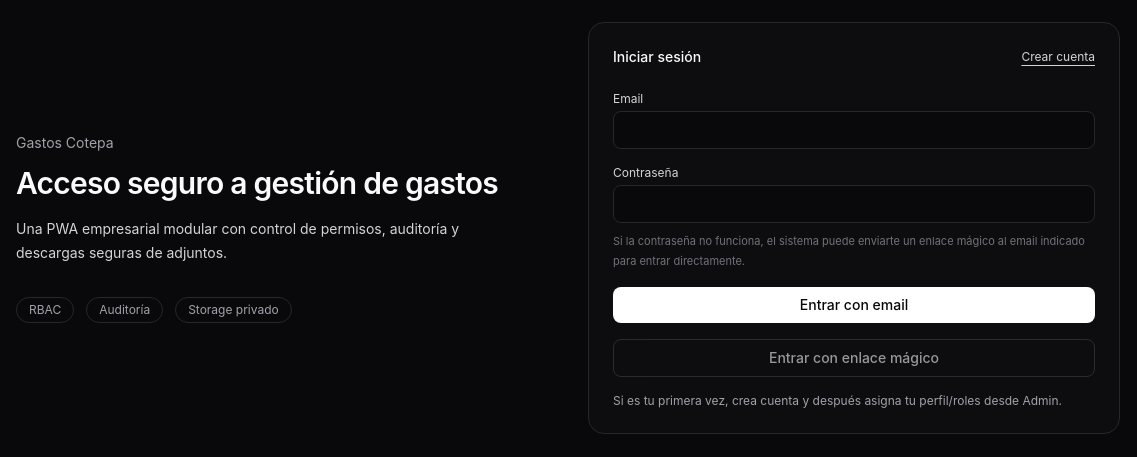
Test case: smoke › crea el usuario con signUp cuando el enlace mágico falla
Click the button "Crear cuenta" at (1058, 57), box [1021,49,1095,65]
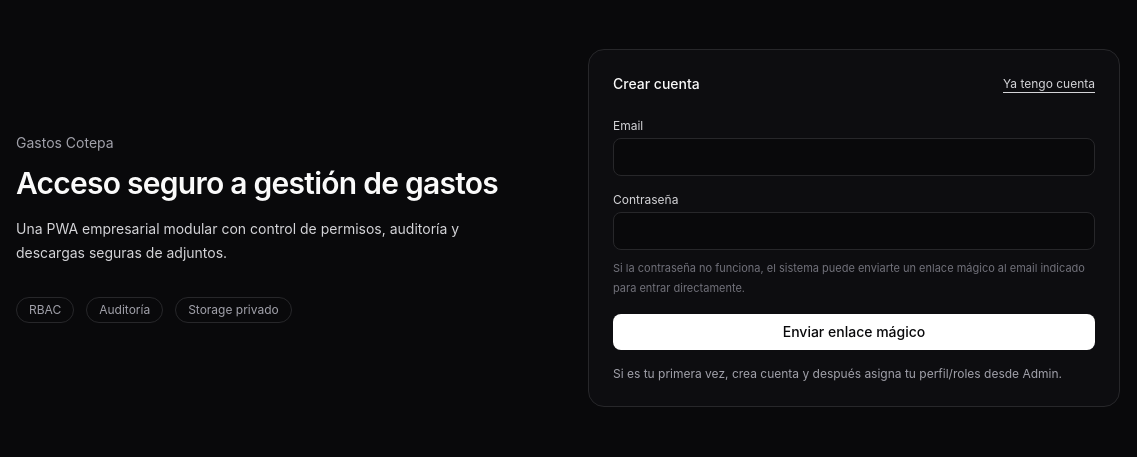
Type "user@test.local" into the field labelled "Email" at (854, 157), box [613,138,1095,176]
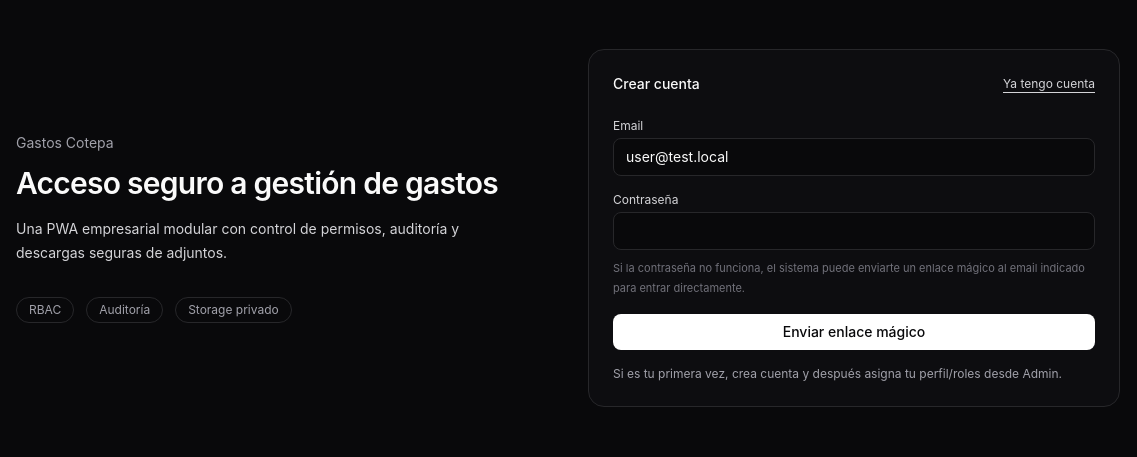
Type "password123" into the password field labelled "Contraseña" at (854, 231), box [613,212,1095,250]
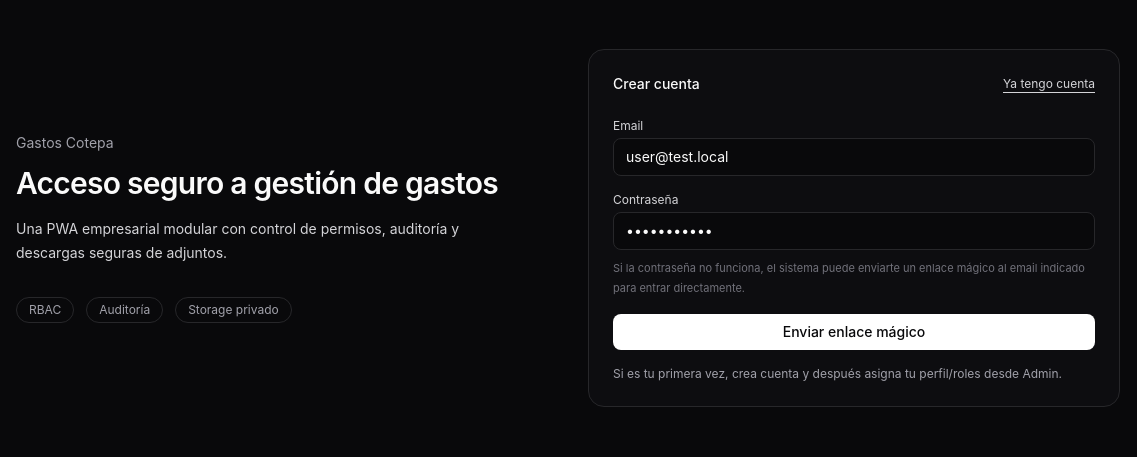
Click the button "Enviar enlace mágico" at (854, 332), box [613,314,1095,350]
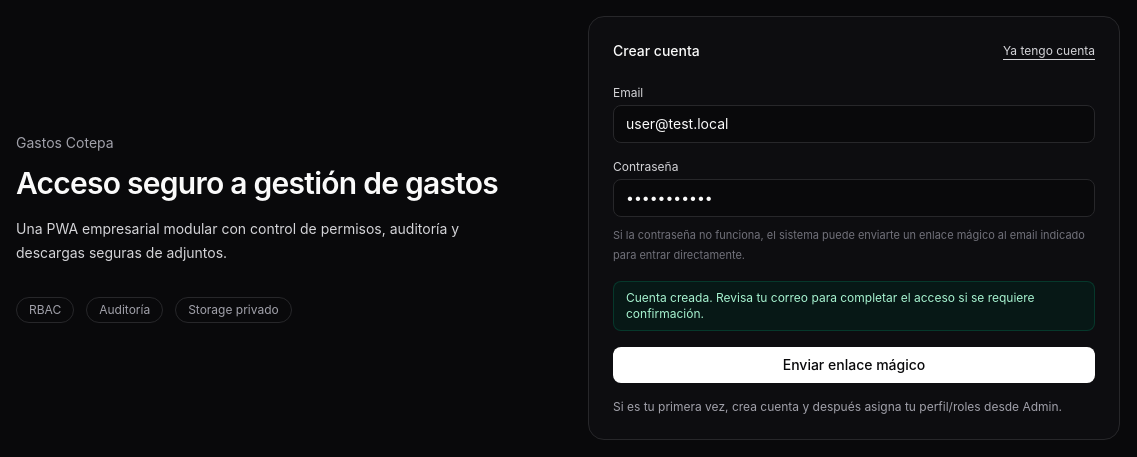
Result: the text "Cuenta creada" is shown at [626,290,1035,321]
